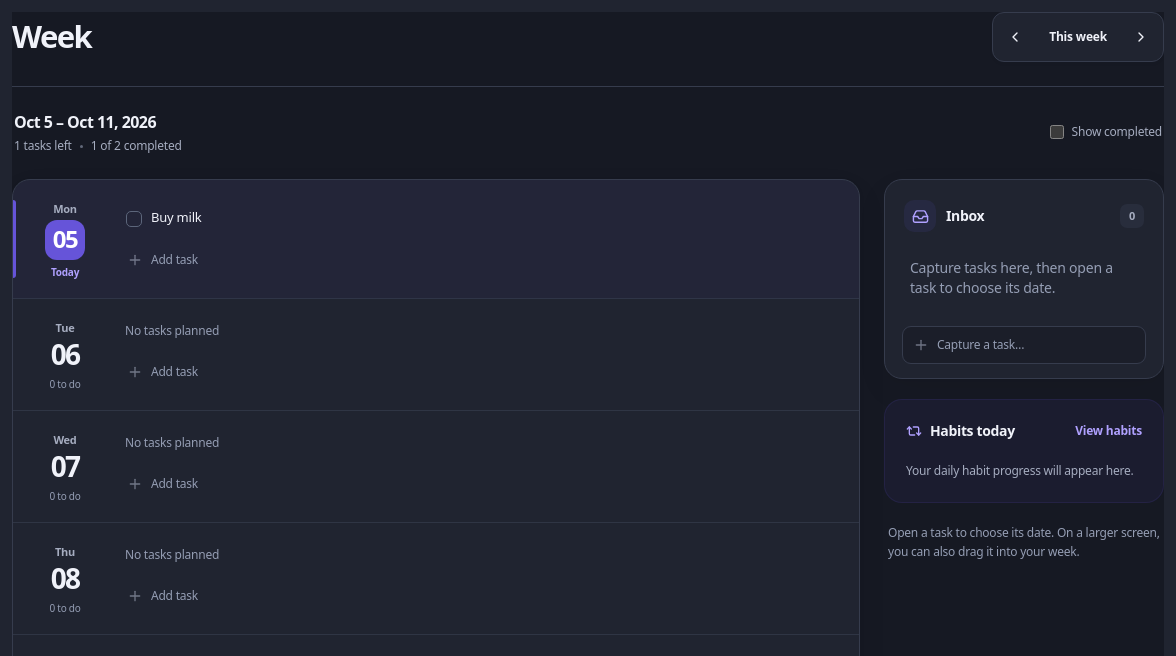
it: WeekBoard planning controls › starts with open tasks and can reveal completed cards without changing totals
Expected: the text "Finished task" is not shown
Expected: the text "1 of 2 completed" is shown, [91, 138, 182, 154]
Click the checkbox labelled "Show completed" at (1057, 132), box [1050, 125, 1064, 139]
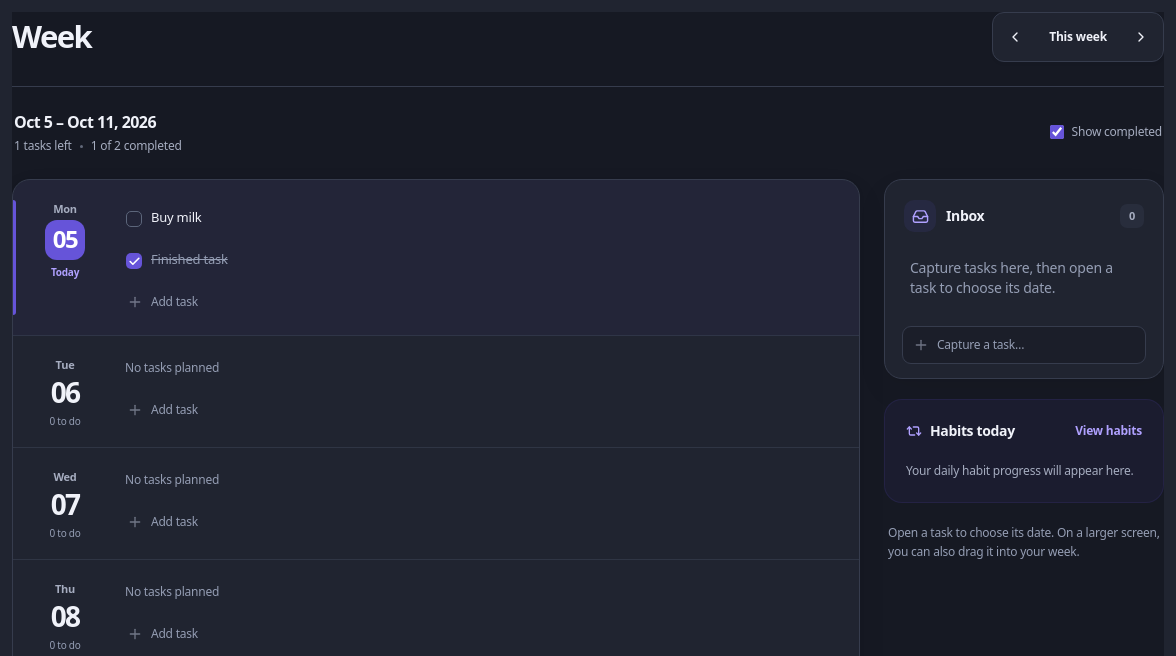
Now the button "Finished task" is shown, box [151, 251, 832, 269]
